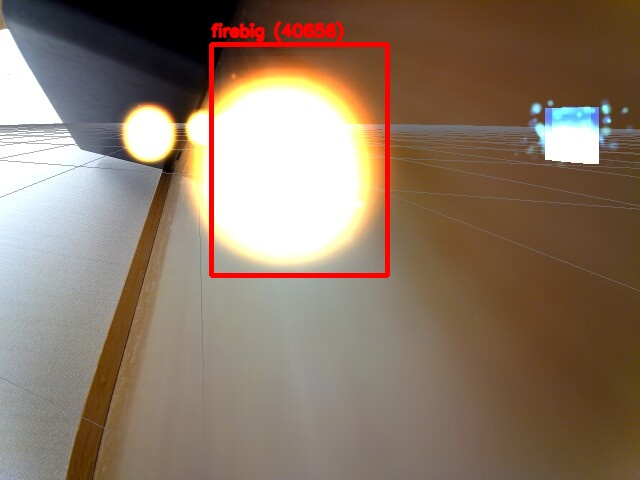firebig: (211, 44, 387, 275)
